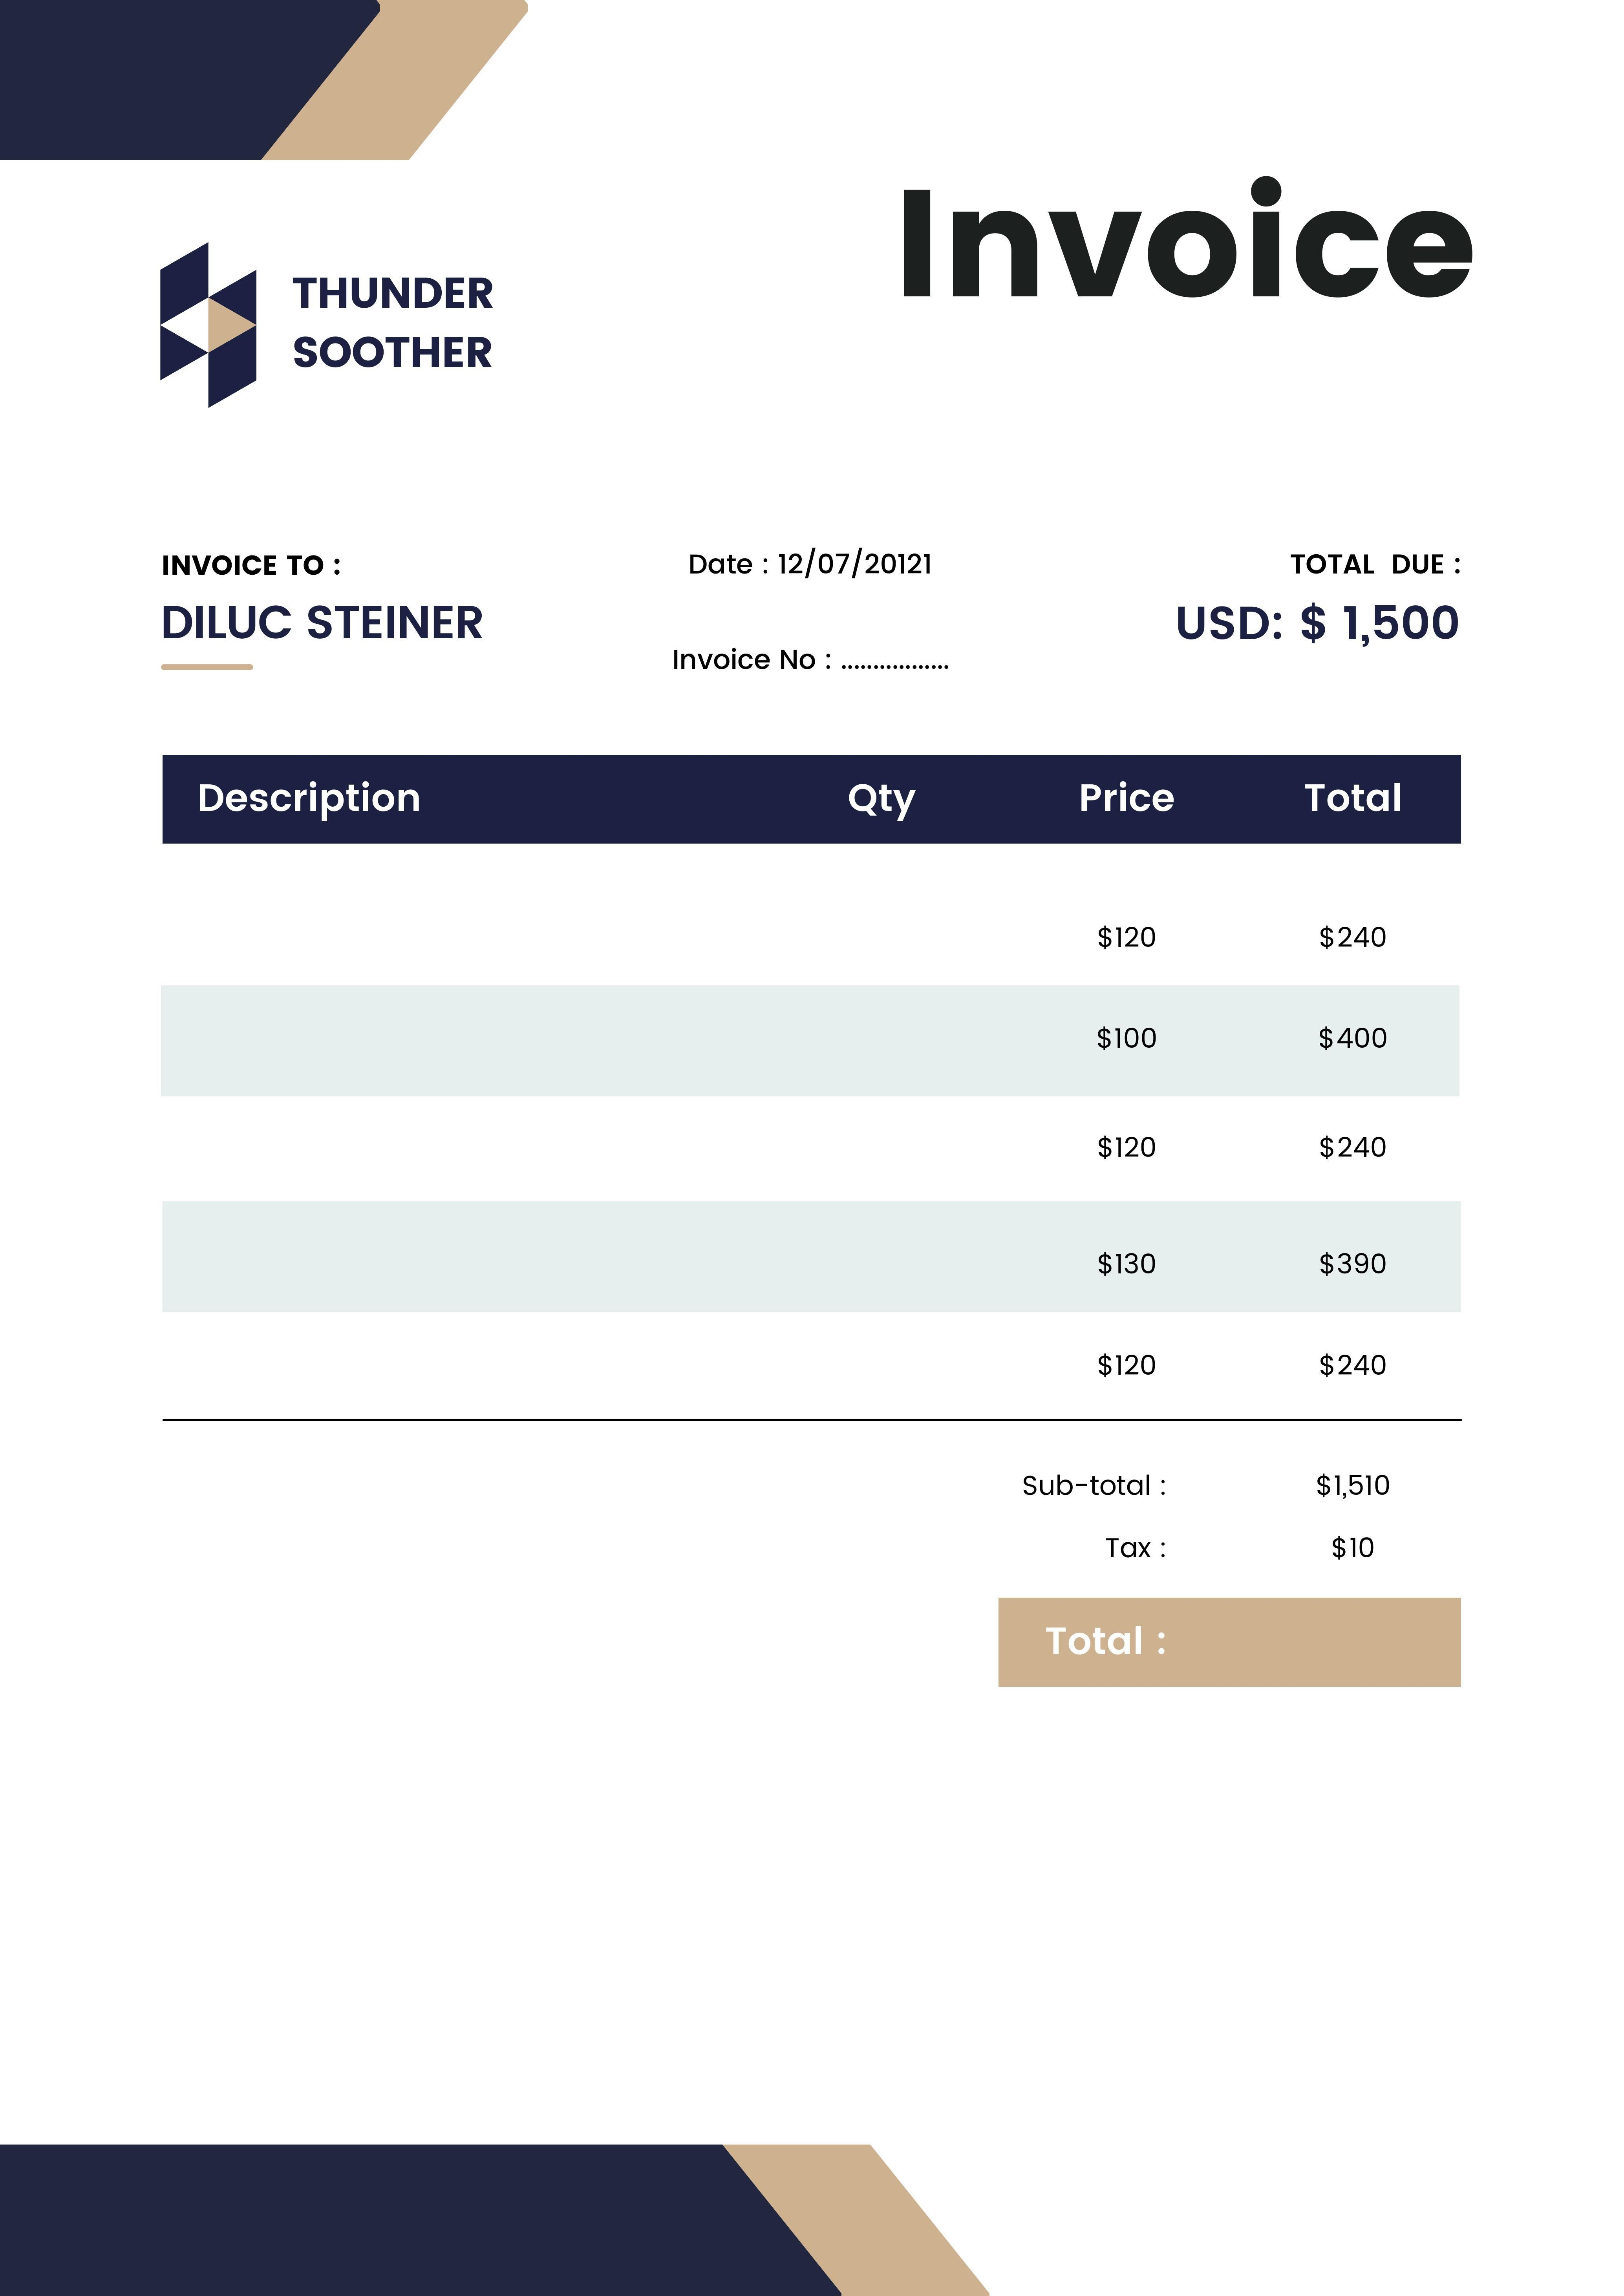ROI: (183, 759, 1427, 1408), (997, 1456, 1411, 1691), (663, 543, 993, 685), (1154, 530, 1465, 665), (151, 545, 513, 661), (282, 262, 509, 372)
